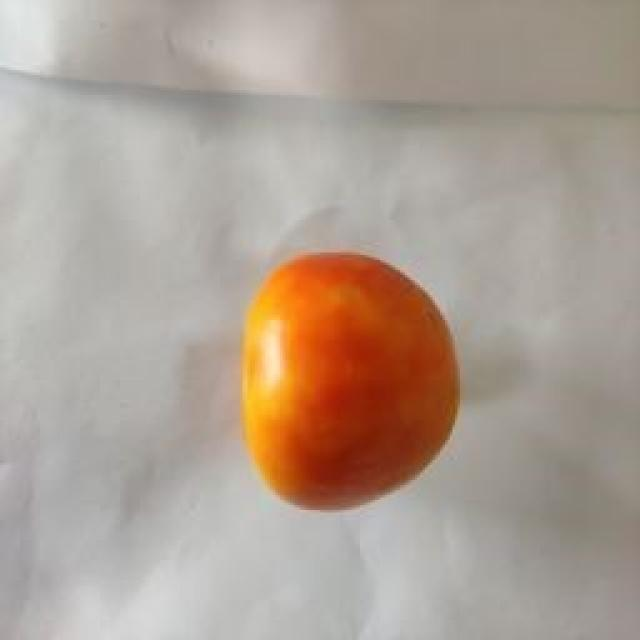unripe: (210, 195, 428, 445)
